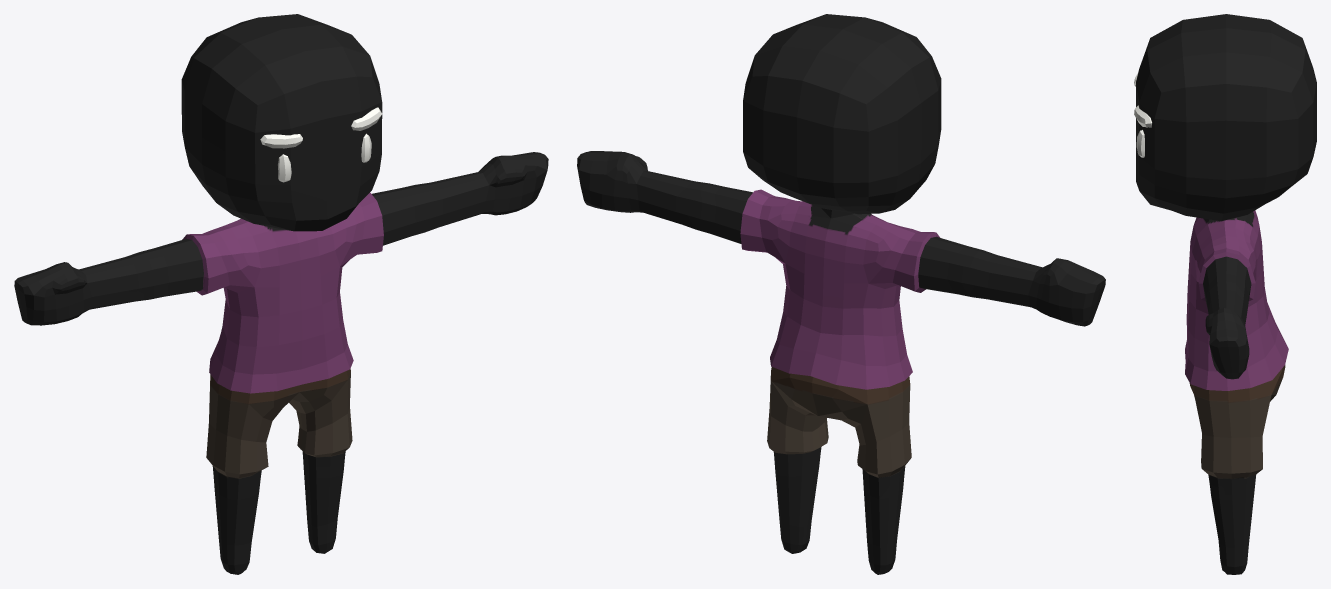
The model's file is Casual_Bald.fbx.
The picture shows the model from 3 angles, left to right: view 1: azimuth 30°, elevation 25°; view 2: azimuth 150°, elevation 25°; view 3: azimuth 270°, elevation 25°; orthographic projection. The views are drawn at different scales.
Parts seen in each view (by area): view 1: Body; view 2: Body; view 3: Body.
Boxes of the visible parts, x1=… form: Body: x1=14, y1=14, x2=548, y2=574; Body: x1=577, y1=14, x2=1105, y2=574; Body: x1=1134, y1=14, x2=1316, y2=574.
Bounding box in the file's own units: 324 × 315 × 99.31.
1 material, 1 textured.
